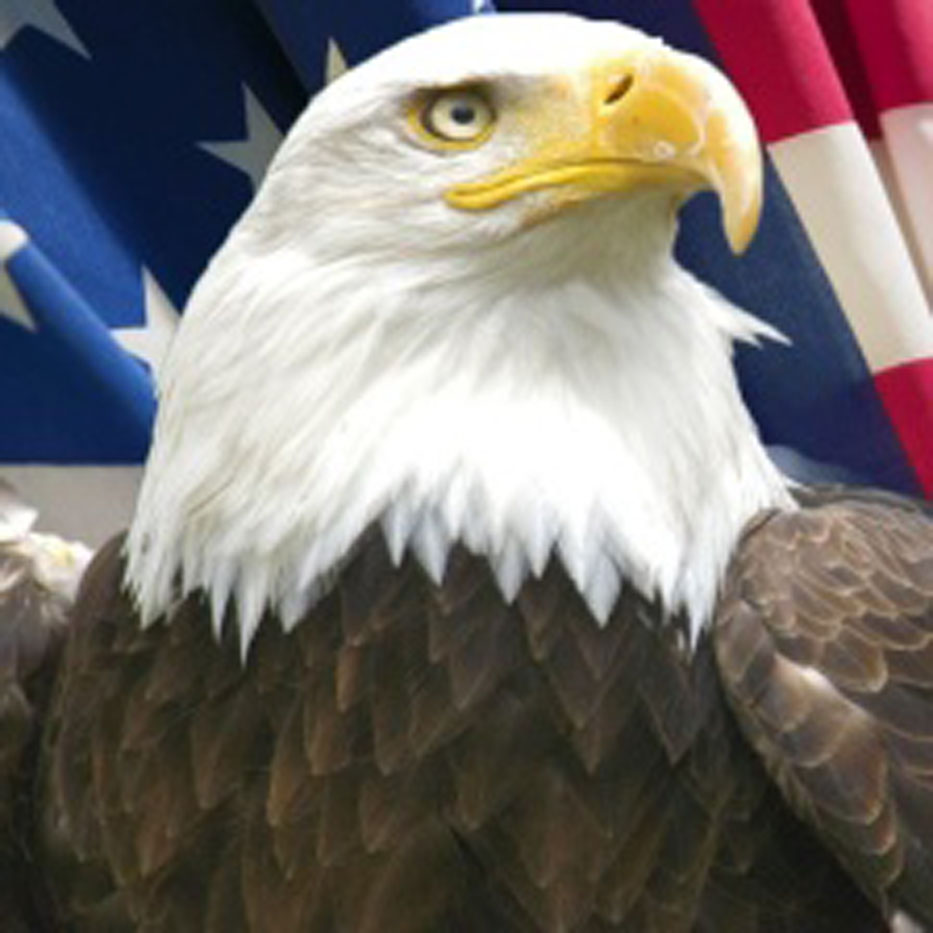Pengoyak Daging: (580, 42, 776, 270)
